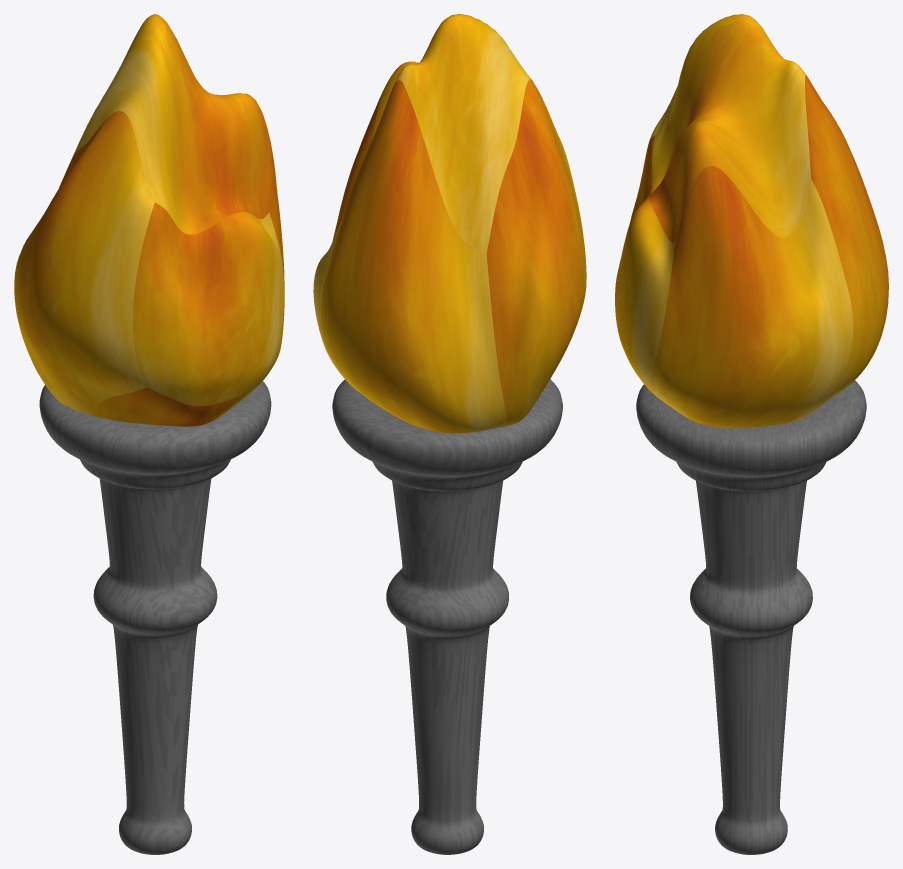
Rendered from antorcha.obj.
The picture shows the model from 3 angles, left to right: view 1: azimuth 30°, elevation 25°; view 2: azimuth 150°, elevation 25°; view 3: azimuth 270°, elevation 25°; orthographic projection.
Visible parts, largest first — view 1: Antorcha.002_Fuego, Antorcha.001_stone1; view 2: Antorcha.002_Fuego, Antorcha.001_stone1; view 3: Antorcha.002_Fuego, Antorcha.001_stone1.
Part boxes in pixels (box(x1,y1,x2,y2)): Antorcha.002_Fuego: box(14, 14, 284, 426); Antorcha.001_stone1: box(39, 381, 271, 854); Antorcha.002_Fuego: box(313, 14, 586, 433); Antorcha.001_stone1: box(332, 379, 562, 854); Antorcha.002_Fuego: box(615, 14, 888, 428); Antorcha.001_stone1: box(636, 380, 866, 854).
Bounding box in the file's own units: 1.85 × 6.15 × 1.84.
